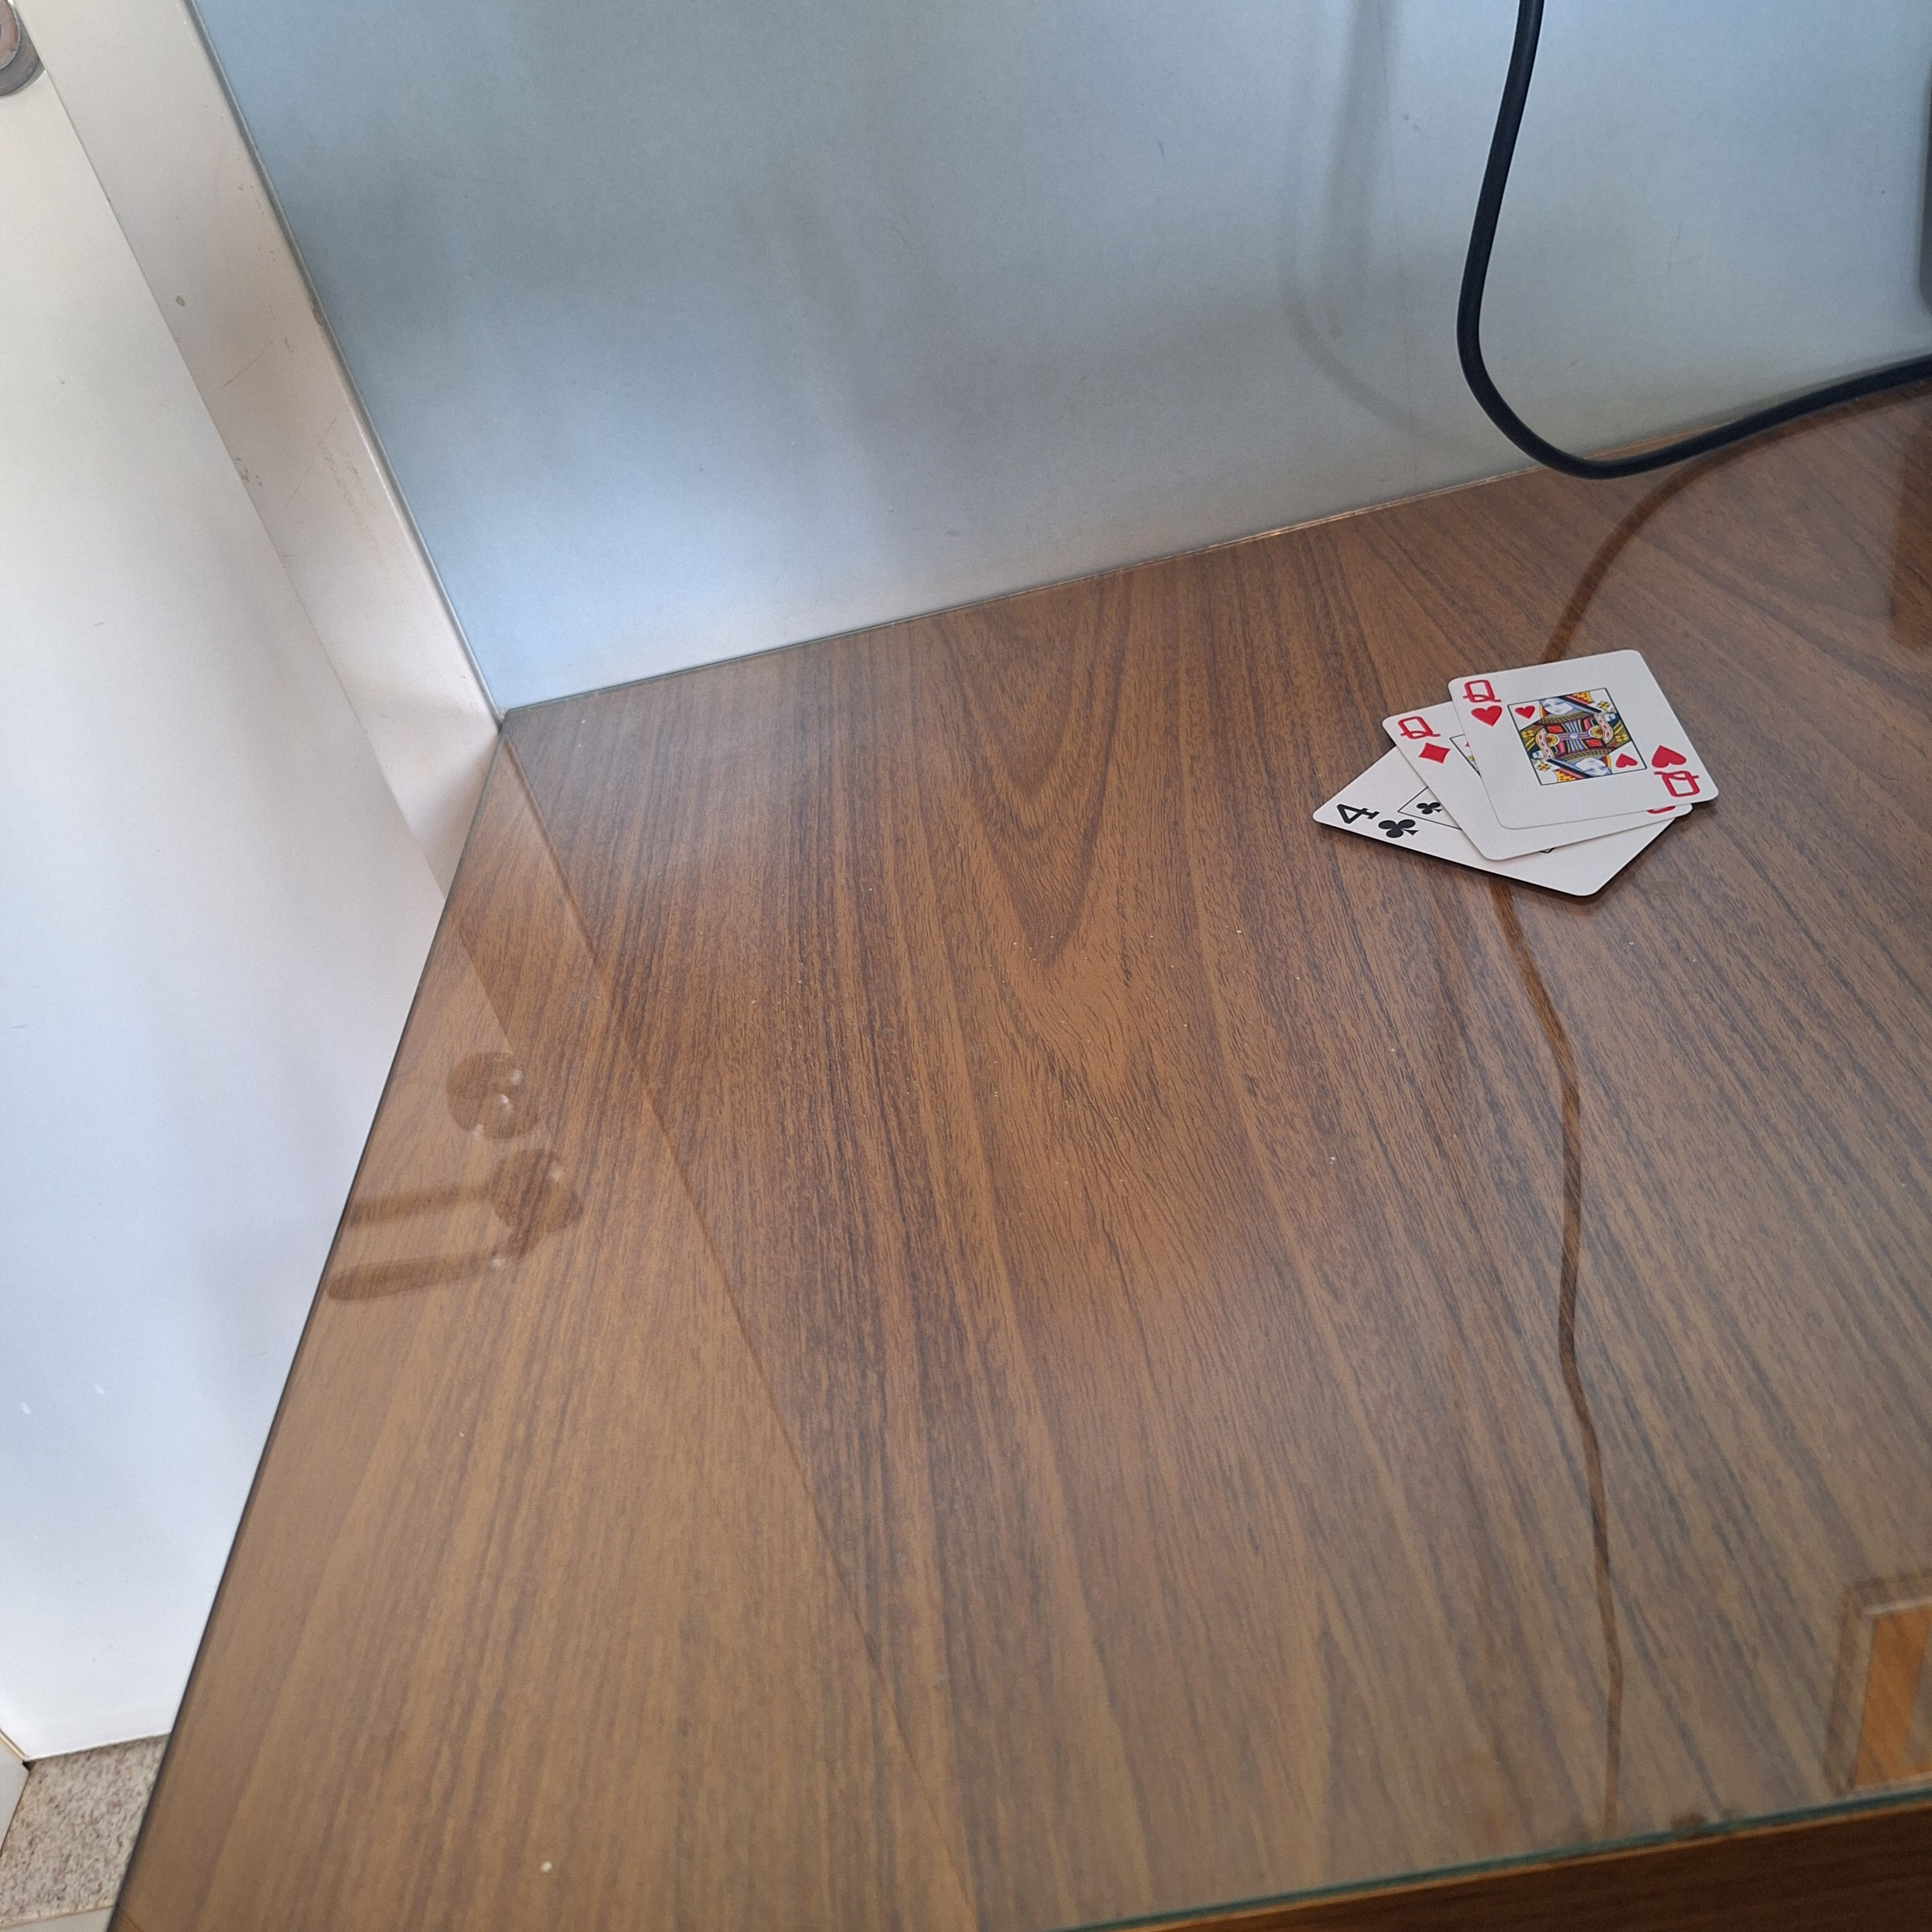4P: (1329, 796, 1421, 844)
QC: (1649, 741, 1706, 803), (1460, 674, 1507, 732)
QO: (1396, 709, 1454, 768)
